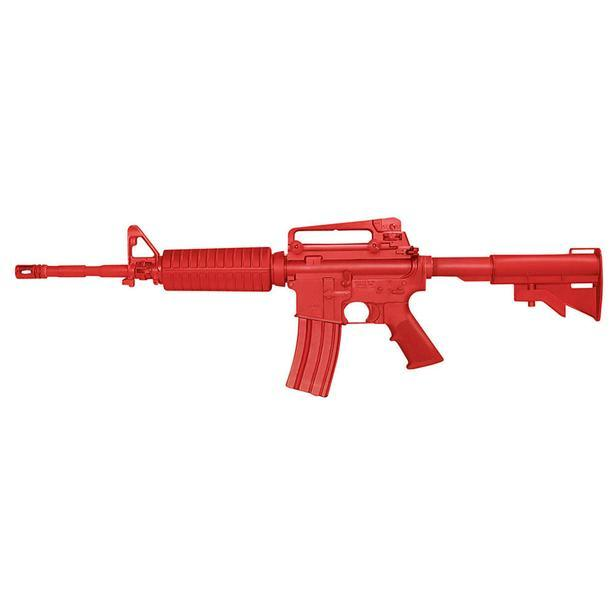Firearm: (4, 207, 614, 419)
